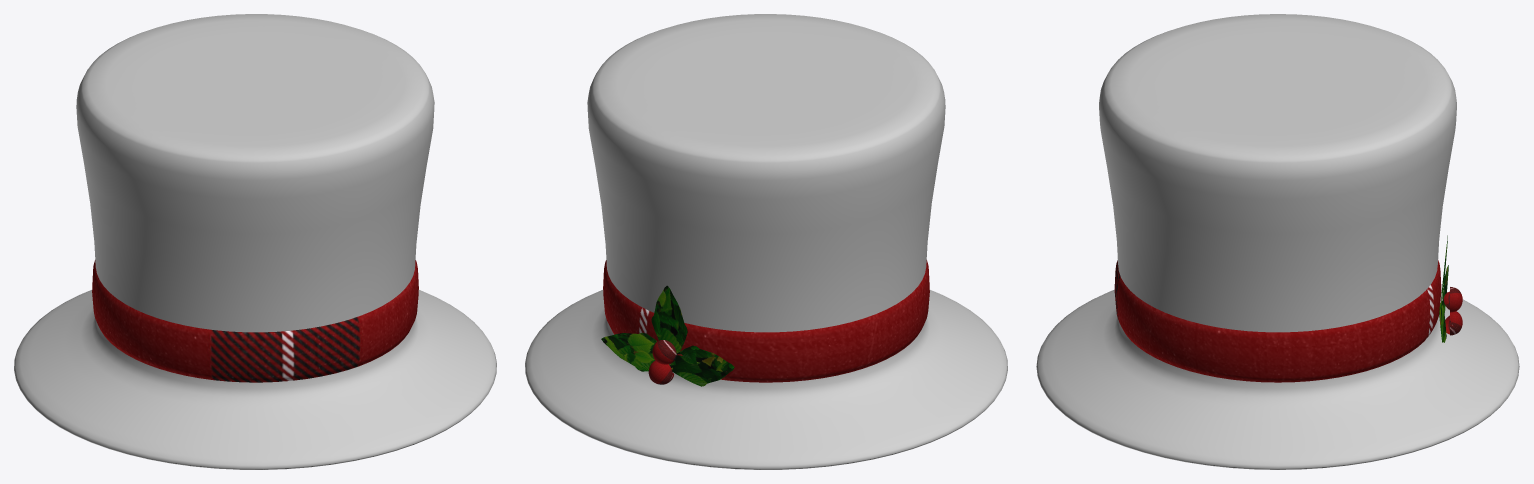
File: hat.fbx
The picture shows the model from 3 angles, left to right: view 1: azimuth 30°, elevation 25°; view 2: azimuth 150°, elevation 25°; view 3: azimuth 270°, elevation 25°; orthographic projection.
Parts seen in each view (by area): view 1: snowman.010, snowman.007; view 2: snowman.010, snowman.007, snowman.005, snowman.006; view 3: snowman.010, snowman.007, snowman.006.
Part boxes in pixels (x1=…): snowman.010: x1=14, y1=14, x2=496, y2=469; snowman.007: x1=92, y1=260, x2=418, y2=382; snowman.010: x1=525, y1=14, x2=1007, y2=469; snowman.007: x1=603, y1=260, x2=929, y2=382; snowman.005: x1=601, y1=285, x2=734, y2=386; snowman.006: x1=648, y1=340, x2=682, y2=384; snowman.010: x1=1036, y1=14, x2=1519, y2=469; snowman.007: x1=1114, y1=260, x2=1441, y2=382; snowman.006: x1=1443, y1=287, x2=1462, y2=335.
Bounding box in the file's own units: 357 × 232 × 357.
3 materials, 2 textured.
